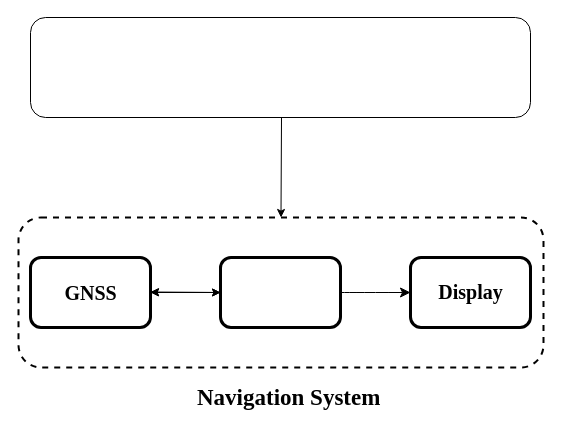
Some shapes in this 565 by 435 pixel diagram are drawn without their labels. The shapes that lost their labels are listed below. From the top down, each one's box as (x1, y1, x2, y2) in pixels, then its label:
(30, 16, 530, 118): Satellite Constellation
(218, 256, 342, 328): Processing Subsystem
